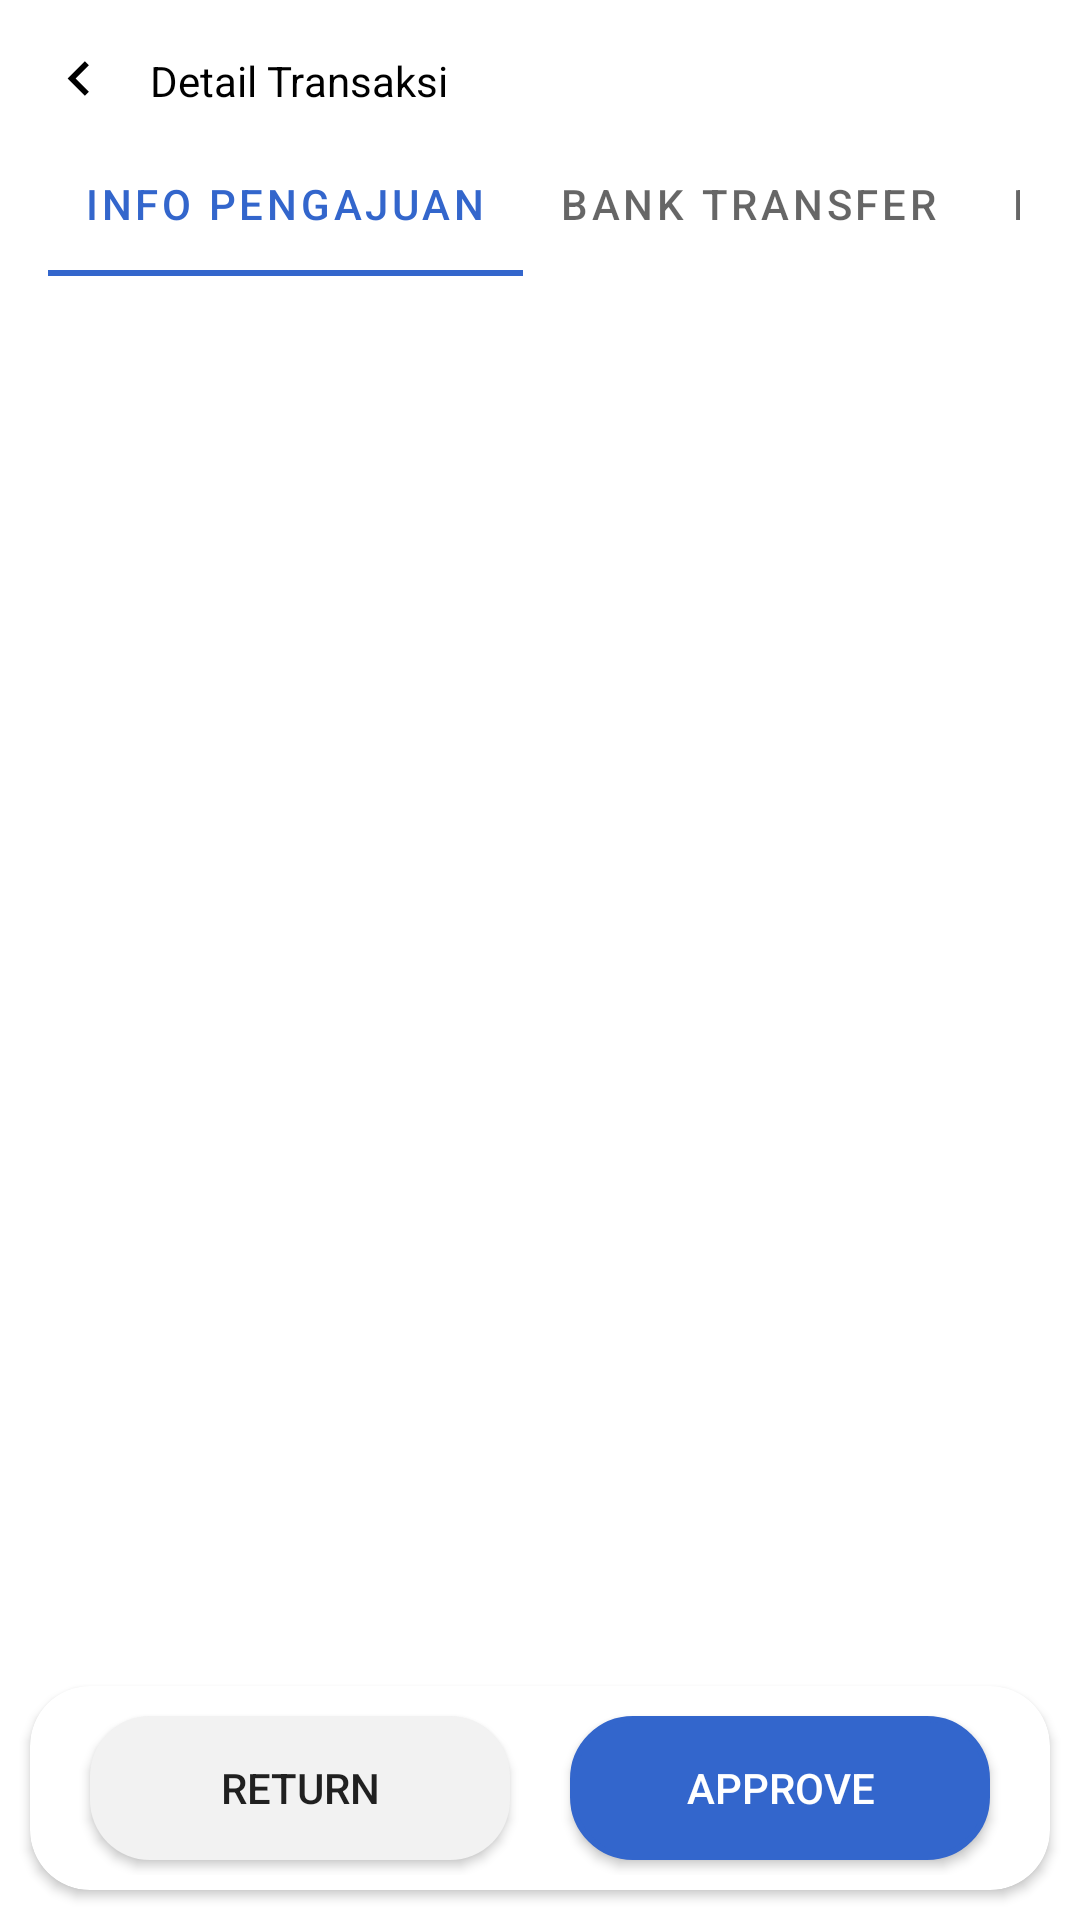

Named icons in this screenshot (1080px x 1920px) and their centers, [x,y]:
back: [78,78]
